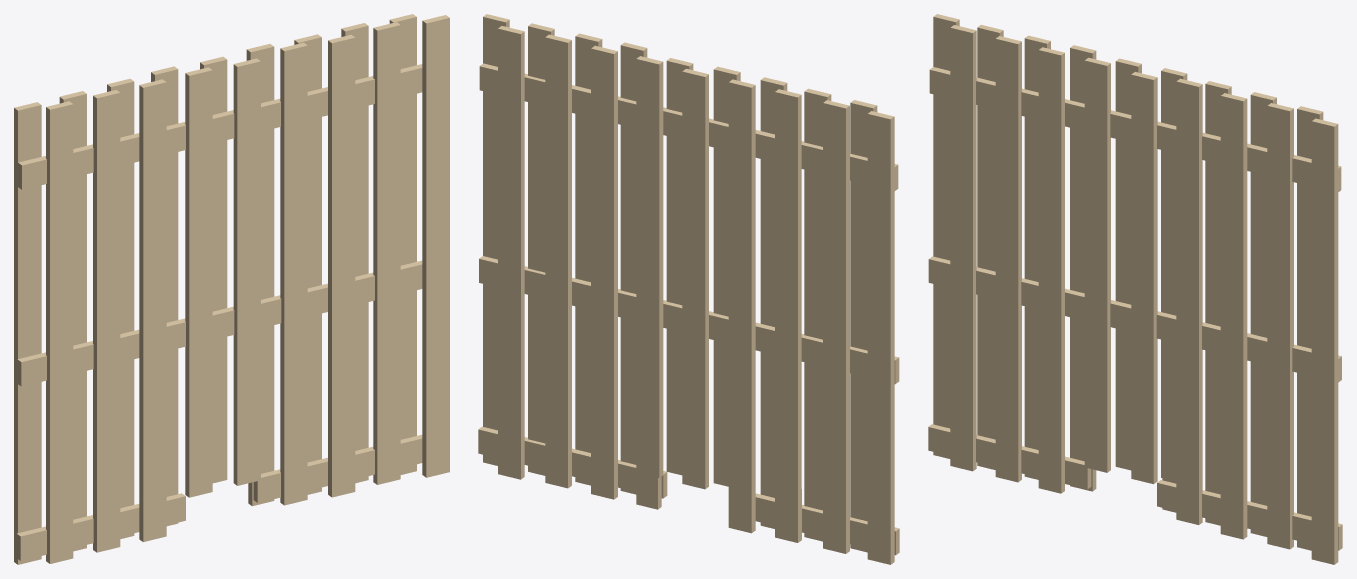
The model's file is fence_4.fbx.
3 renders of one model, left to right at view 1: azimuth 30°, elevation 25°; view 2: azimuth 150°, elevation 25°; view 3: azimuth 330°, elevation 25°, orthographic. The views are drawn at different scales.
Parts seen in each view (by area): view 1: model; view 2: model; view 3: model.
Boxes of the visible parts, x1=… form: model: x1=14, y1=14, x2=449, y2=564; model: x1=478, y1=14, x2=899, y2=564; model: x1=928, y1=14, x2=1342, y2=564.
Size of the model in its own units: 309 by 319 by 18.08.
